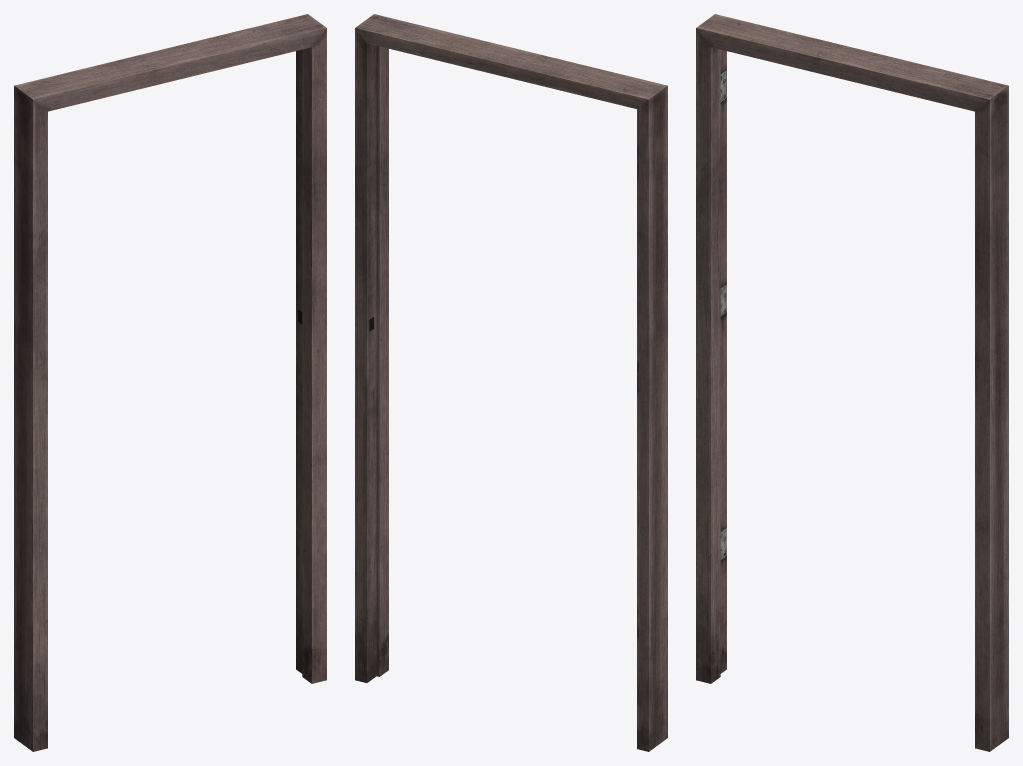
File: doorBorder.FBX
The picture shows the model from 3 angles, left to right: view 1: azimuth 30°, elevation 25°; view 2: azimuth 150°, elevation 25°; view 3: azimuth 330°, elevation 25°; orthographic projection.
Parts seen in each view (by area): view 1: SM_DoorBorder; view 2: SM_DoorBorder; view 3: SM_DoorBorder.
Boxes of the visible parts, left/top/right/bottom form: SM_DoorBorder: left=14, top=14, right=326, bottom=751; SM_DoorBorder: left=355, top=14, right=667, bottom=751; SM_DoorBorder: left=696, top=14, right=1008, bottom=751.
Bounding box in the file's own units: 98 × 208 × 11.
1 material, 1 textured.
